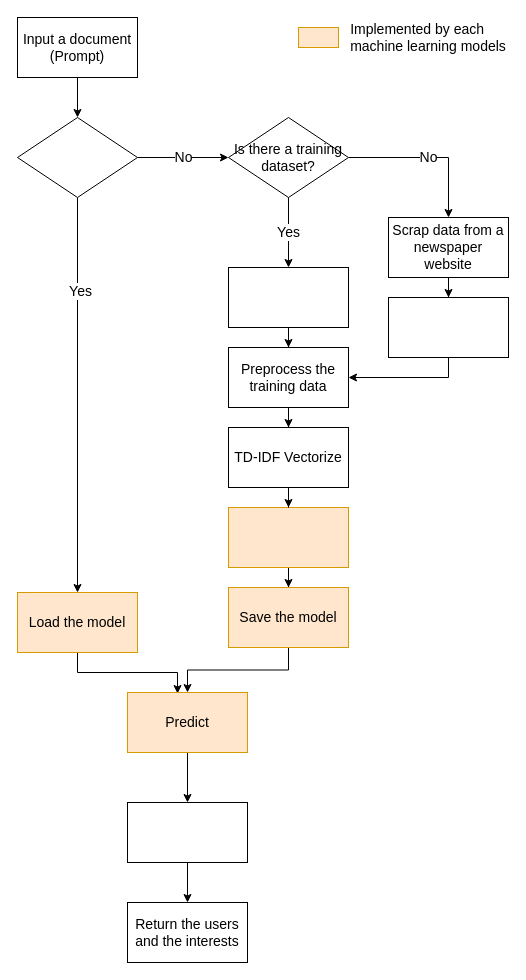
This 526x980 diagram has some shape labels left out. Here are the shapes that lost their labels. From the top down, the centre of each, then its label:
At [77,157]: "Is there a saved model?".
At [288,297]: "Get the saved training dataset".
At [448,327]: "Save the scraped data".
At [288,537]: "Train a model".
At [187,832]: "Get the users with the predicted interest".
